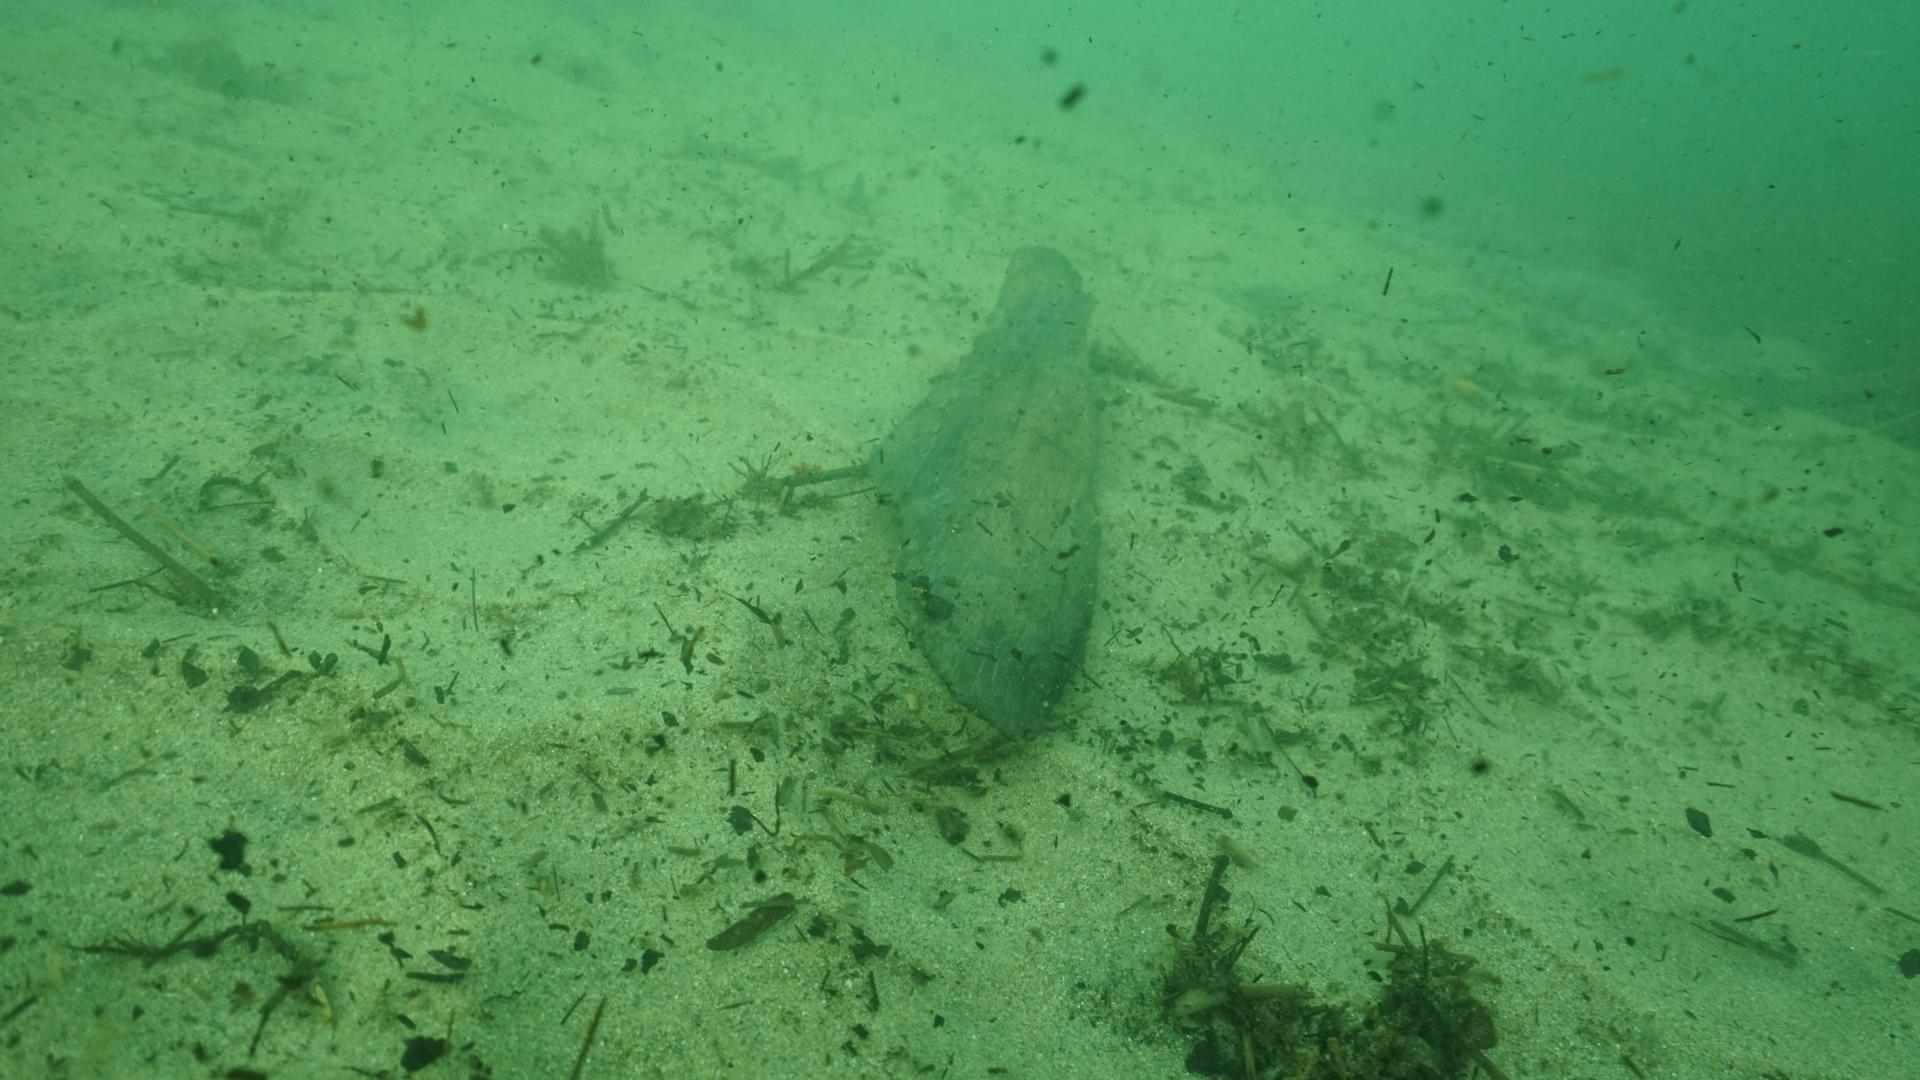wood: (866, 244, 1102, 742)
